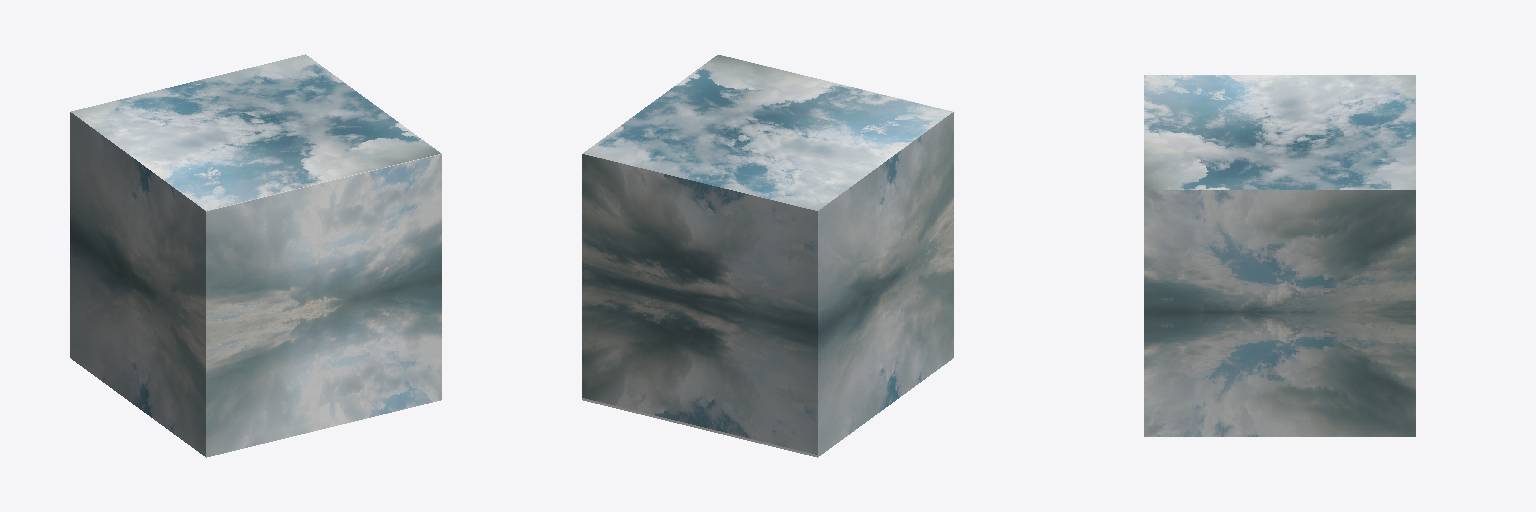
3 views of the same model, side by side, from view 1: azimuth 30°, elevation 25°; view 2: azimuth 150°, elevation 25°; view 3: azimuth 270°, elevation 25° (orthographic).
Visible parts, largest first — view 1: Box001; view 2: Box001; view 3: Box001.
Part boxes in pixels (x1,y1,x2,y2): Box001: (70, 54, 441, 457); Box001: (582, 54, 953, 457); Box001: (1144, 75, 1415, 436).
Bounding box in the file's own units: 100 × 100 × 100.
Materials: 1 (1 with a texture image).